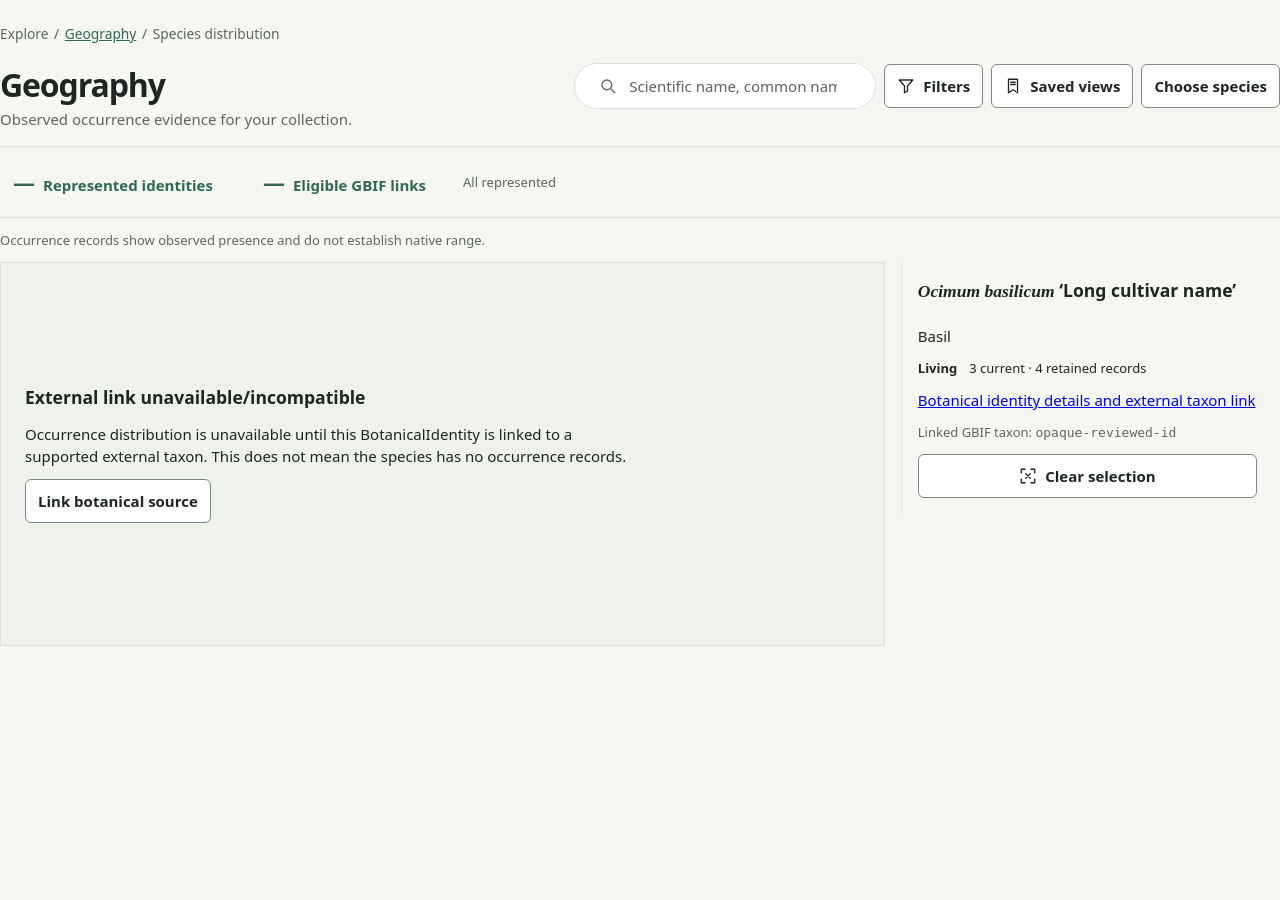
Test: unsupported local link and an empty directory never imply absence or request occurrences
Expected: the heading "External link unavailable/incompatible" is shown, top-left (25, 385), bottom-right (366, 411)
Expected: the text "does not mean the species has no occurrence records" is shown, top-left (25, 424), bottom-right (626, 466)
Click the button "Choose species". click: coordinates (1211, 86)
box: top-left (1141, 64), bottom-right (1279, 108)
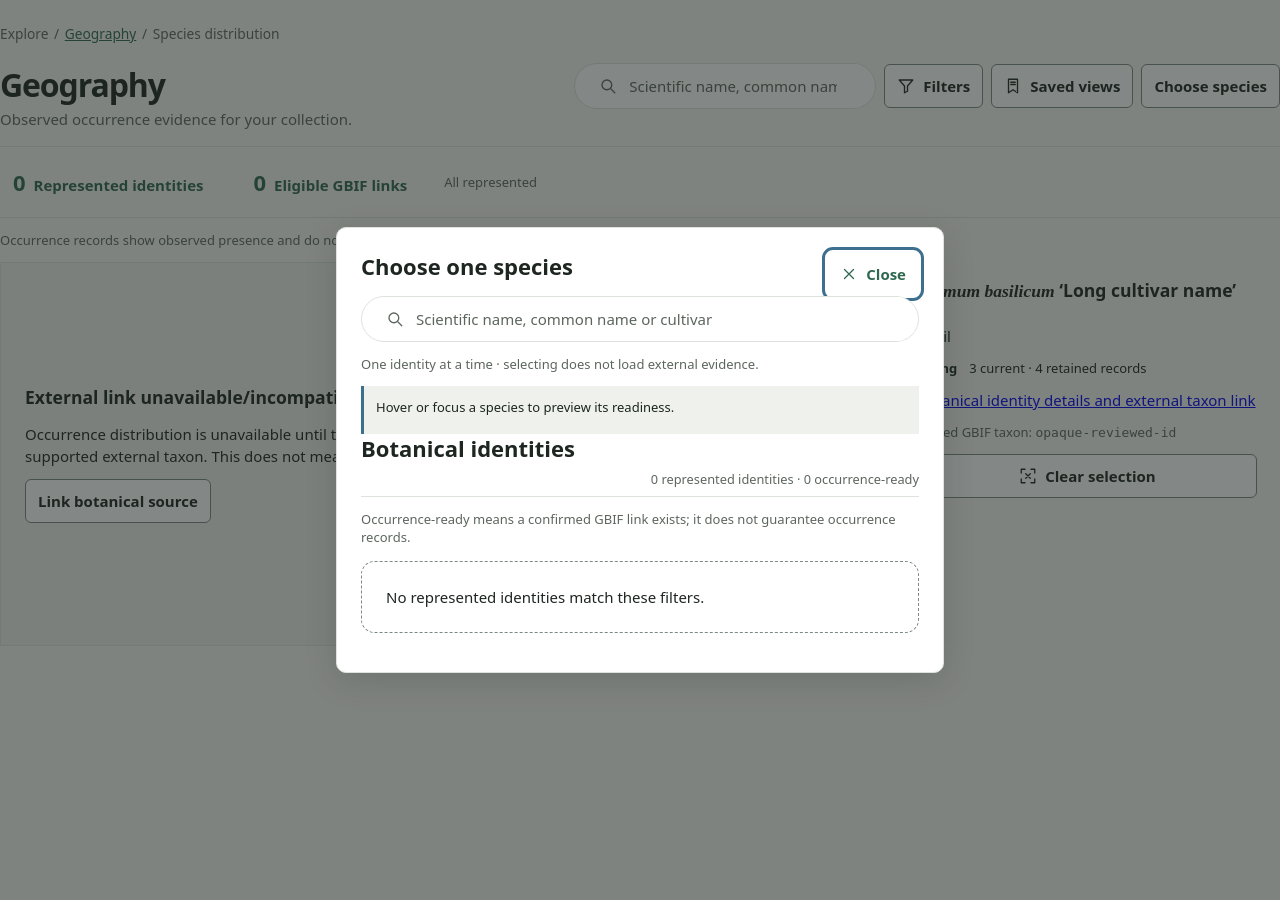
Now the text "No represented identities match these filters." is shown, box top-left (361, 560), bottom-right (919, 632)
